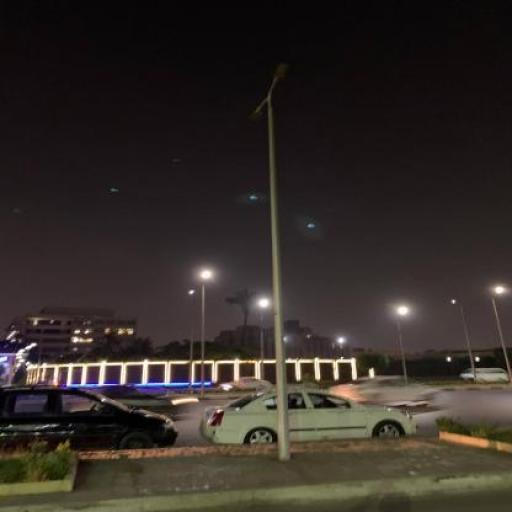street light: (249, 61, 291, 461), (452, 299, 478, 382), (491, 287, 511, 385), (200, 268, 214, 396), (396, 308, 411, 385), (188, 290, 197, 394), (258, 299, 269, 368)
